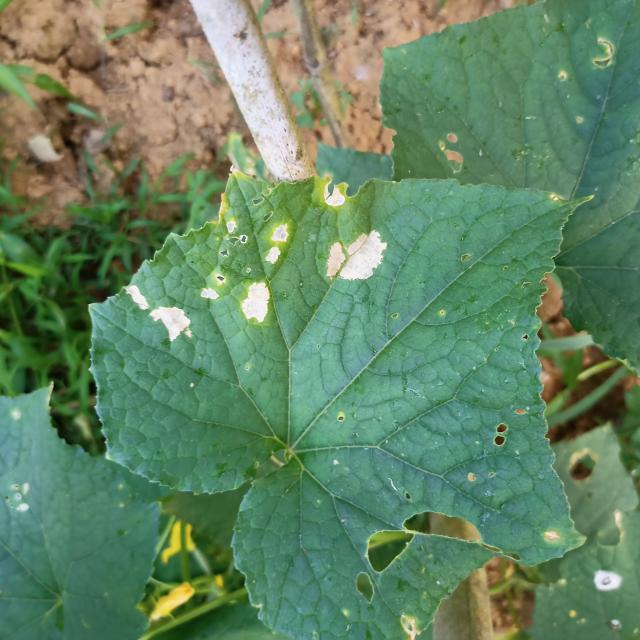disease_cucumber: (200, 219, 295, 330), (316, 226, 388, 290), (119, 285, 195, 345), (313, 181, 353, 221)
